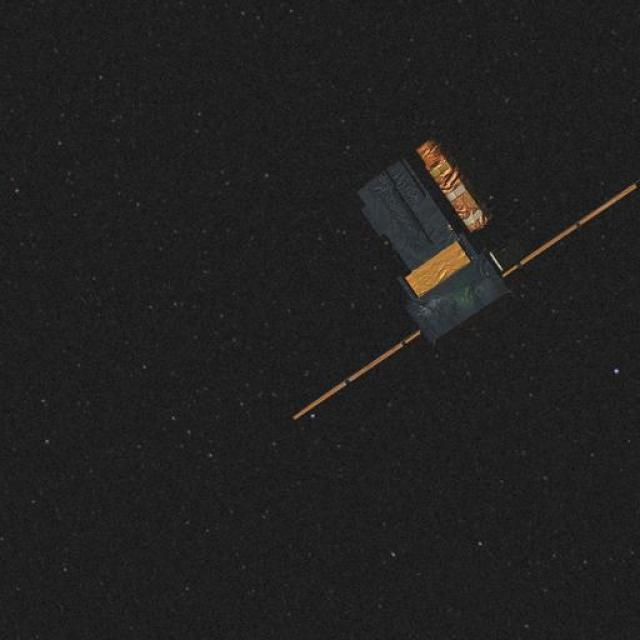soho: (346, 107, 524, 375)
